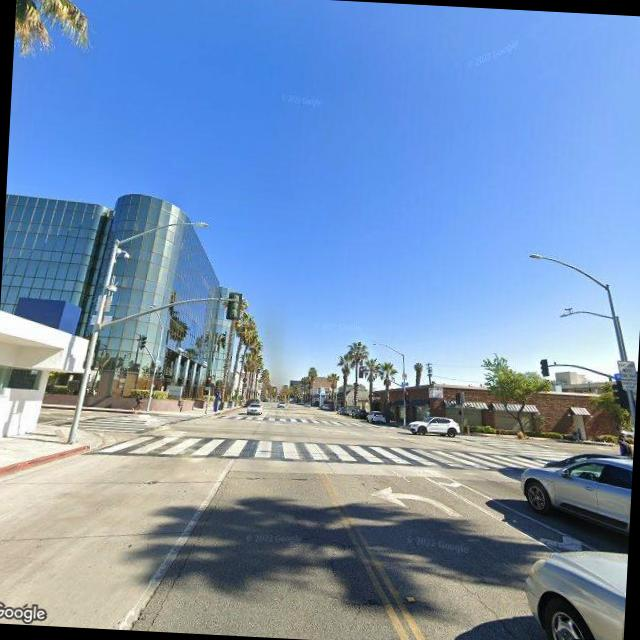pothole: (452, 574, 534, 640)
